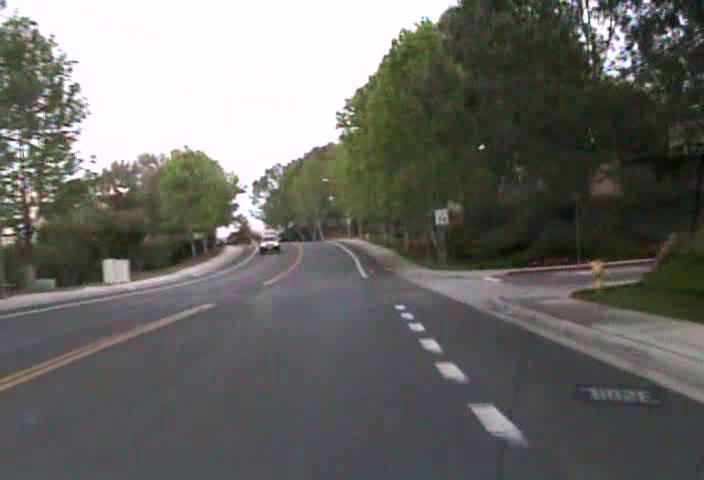speedLimitUrdbl: (433, 208, 450, 225)
